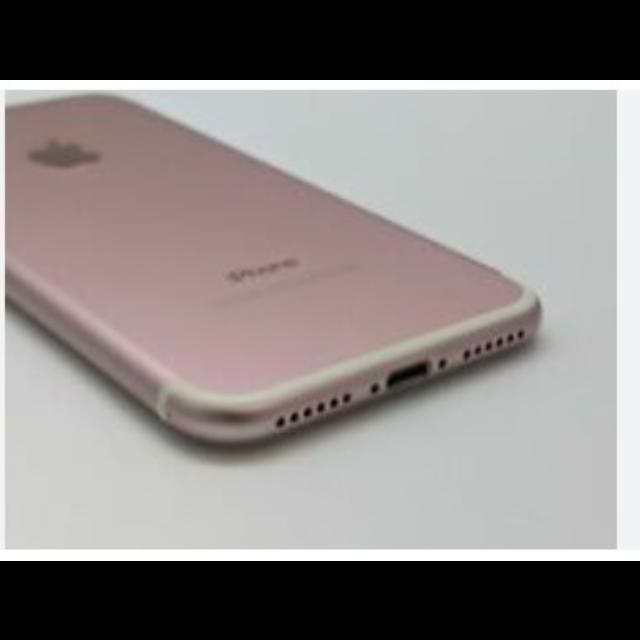Smartphone: (5, 92, 541, 452)
